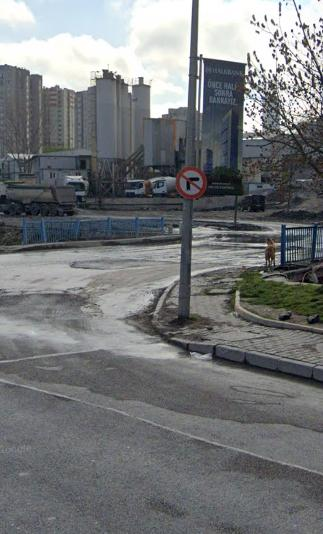rightturnsareforbidden: (178, 167, 205, 194)
